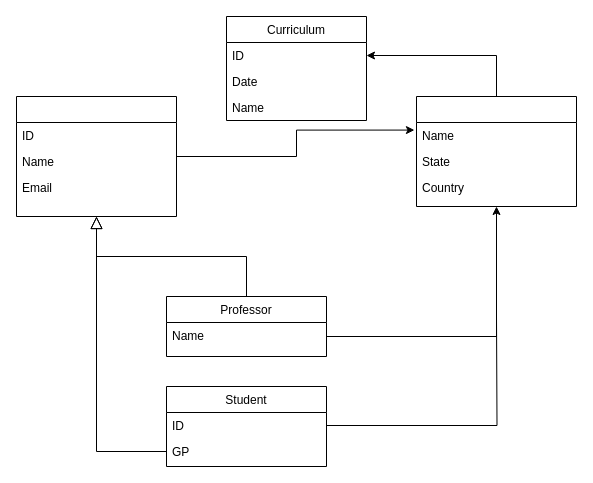
Image size: 593x483. Some labels were removed from this diagram. Here are the shapes that lost their labels. From the top down, the box of each, then its label:
(16, 96, 176, 216): Person
(416, 96, 576, 206): School
